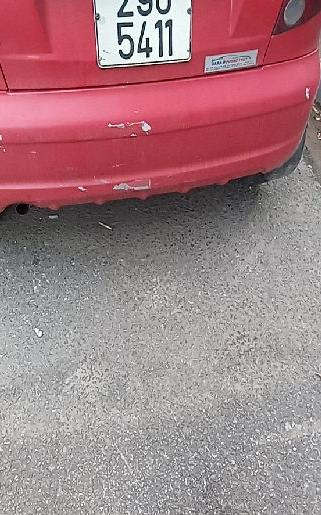Plate-iWeP: (91, 0, 194, 65)
